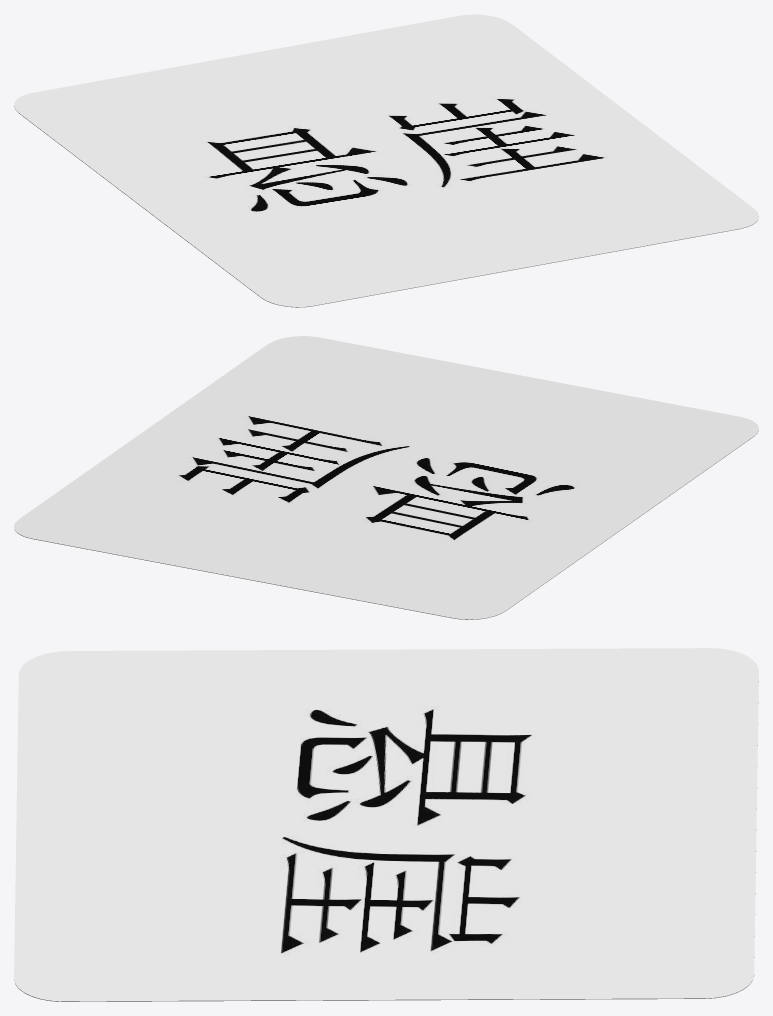
Rendered from XuanYa.FBX.
3 views of the same model, one above another, from view 1: azimuth 30°, elevation 25°; view 2: azimuth 150°, elevation 25°; view 3: azimuth 270°, elevation 25° (orthographic). The views are drawn at different scales.
Parts seen in each view (by area): view 1: Rectangle001; view 2: Rectangle001; view 3: Rectangle001.
Boxes of the visible parts, x1,y1,x2,y2 form: Rectangle001: (14, 14, 758, 307); Rectangle001: (14, 336, 758, 619); Rectangle001: (14, 648, 758, 1001).
Bounding box in the file's own units: 60.32 × 3.91 × 60.38.
